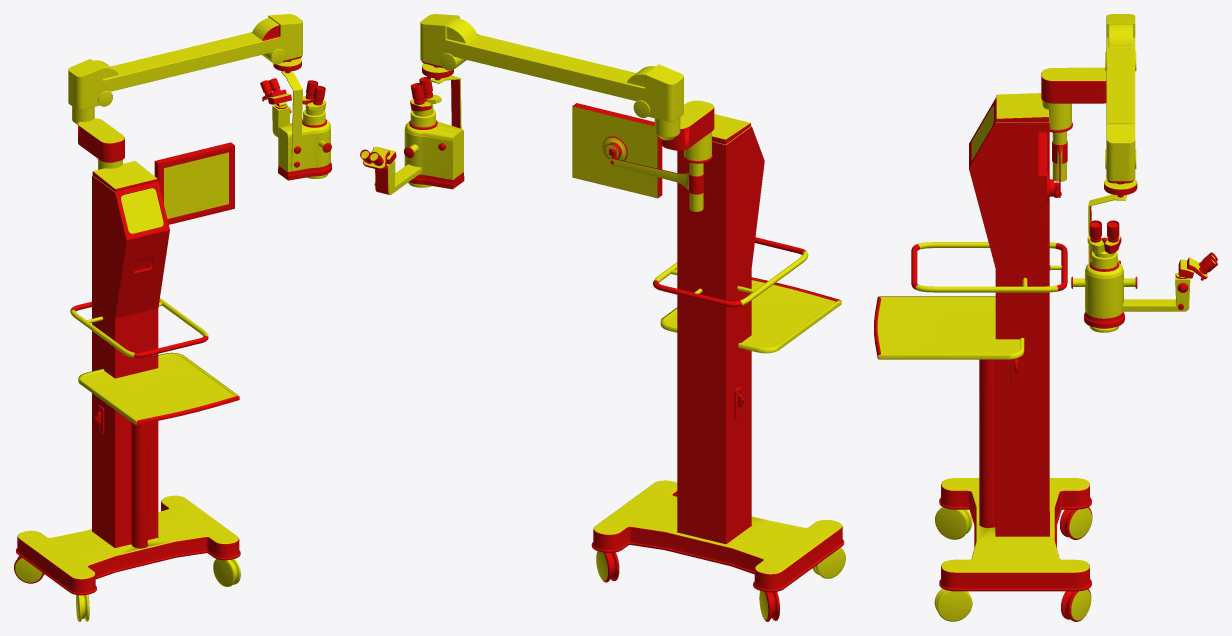
File: Equipment_5.fbx
The picture shows the model from 3 angles, left to right: view 1: azimuth 30°, elevation 25°; view 2: azimuth 150°, elevation 25°; view 3: azimuth 270°, elevation 25°; orthographic projection. The views are drawn at different scales.
Parts seen in each view (by area): view 1: L2:polySurface110; view 2: L2:polySurface110; view 3: L2:polySurface110.
Part boxes in pixels (bbox=[...]): L2:polySurface110: bbox=[14, 14, 331, 621]; L2:polySurface110: bbox=[360, 14, 845, 621]; L2:polySurface110: bbox=[874, 14, 1217, 621].
Size of the model in its own units: 105 by 149 by 82.68.
